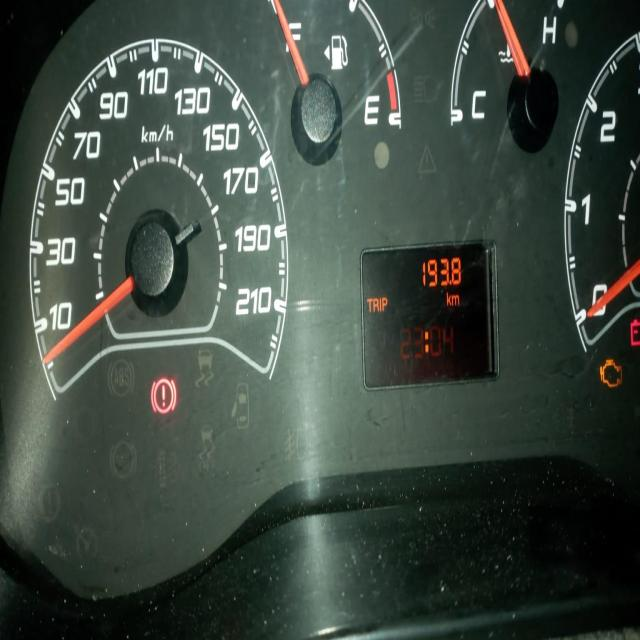odometer: (359, 236, 501, 393)
